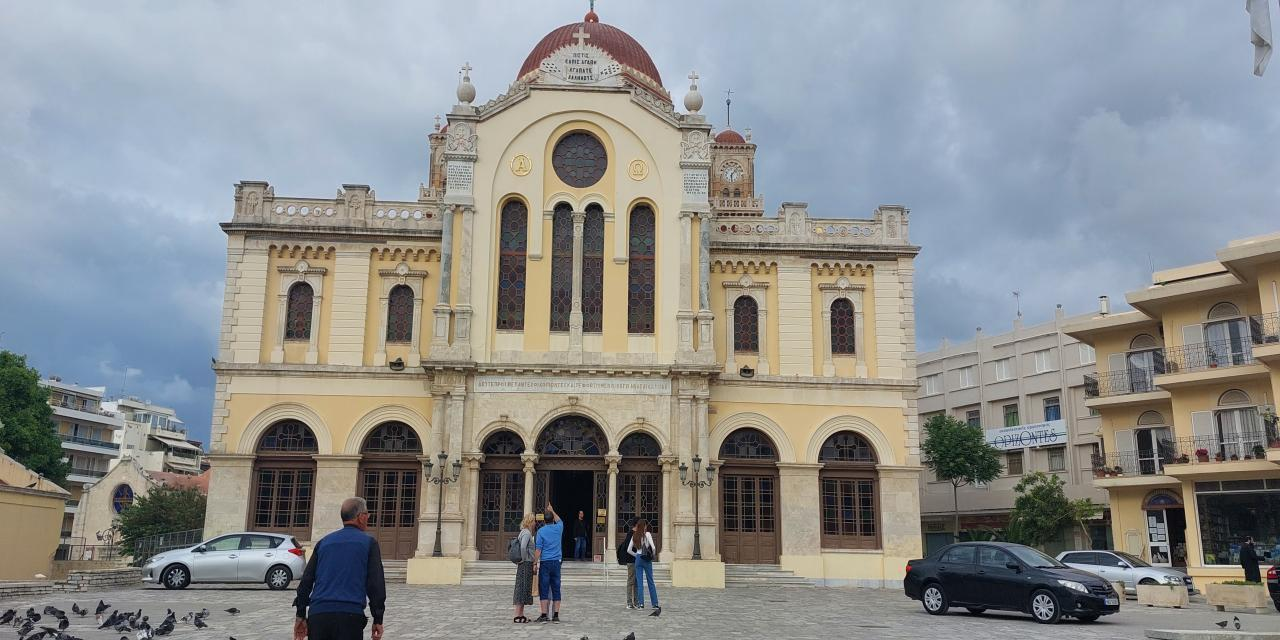Agios Minas: (179, 1, 929, 598)
